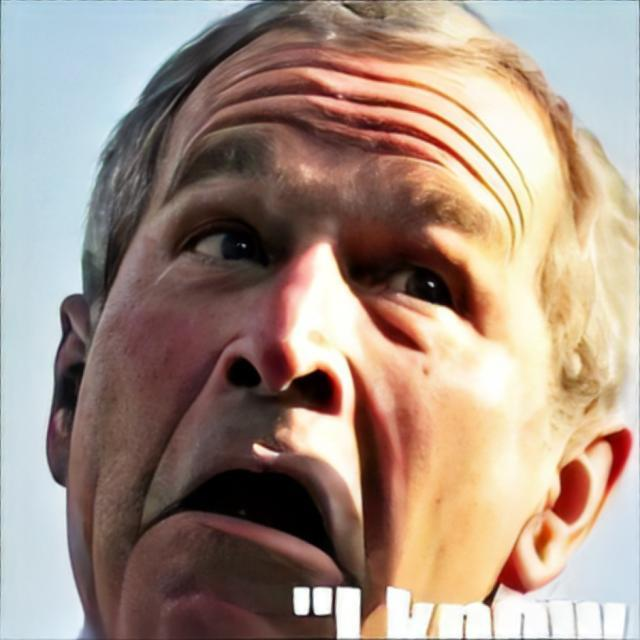fear: (62, 0, 555, 639)
